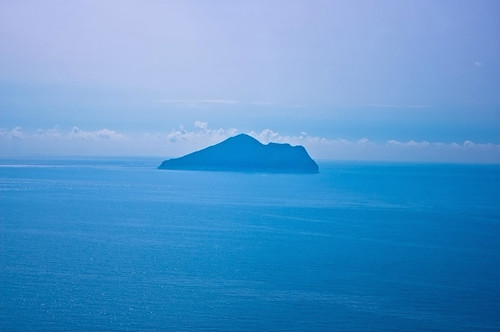turtleIsland: (162, 126, 318, 176)
